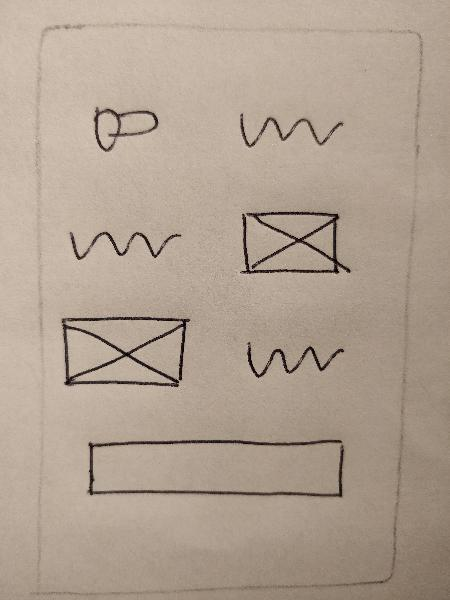image: (51, 309, 198, 395), (231, 204, 356, 285)
switch: (85, 97, 169, 160)
text: (58, 220, 188, 271), (239, 334, 352, 390), (230, 106, 351, 153)
text_input: (79, 434, 349, 508)
